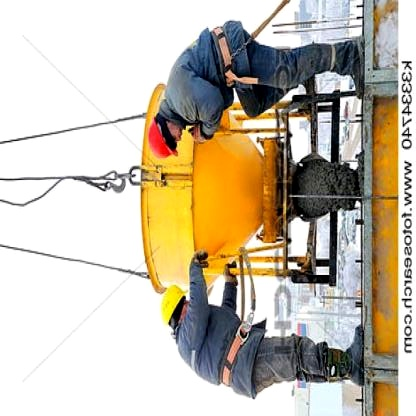red: (142, 112, 178, 164)
yellow: (154, 270, 188, 332)
